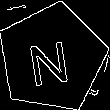N_N: (28, 29, 76, 86)
